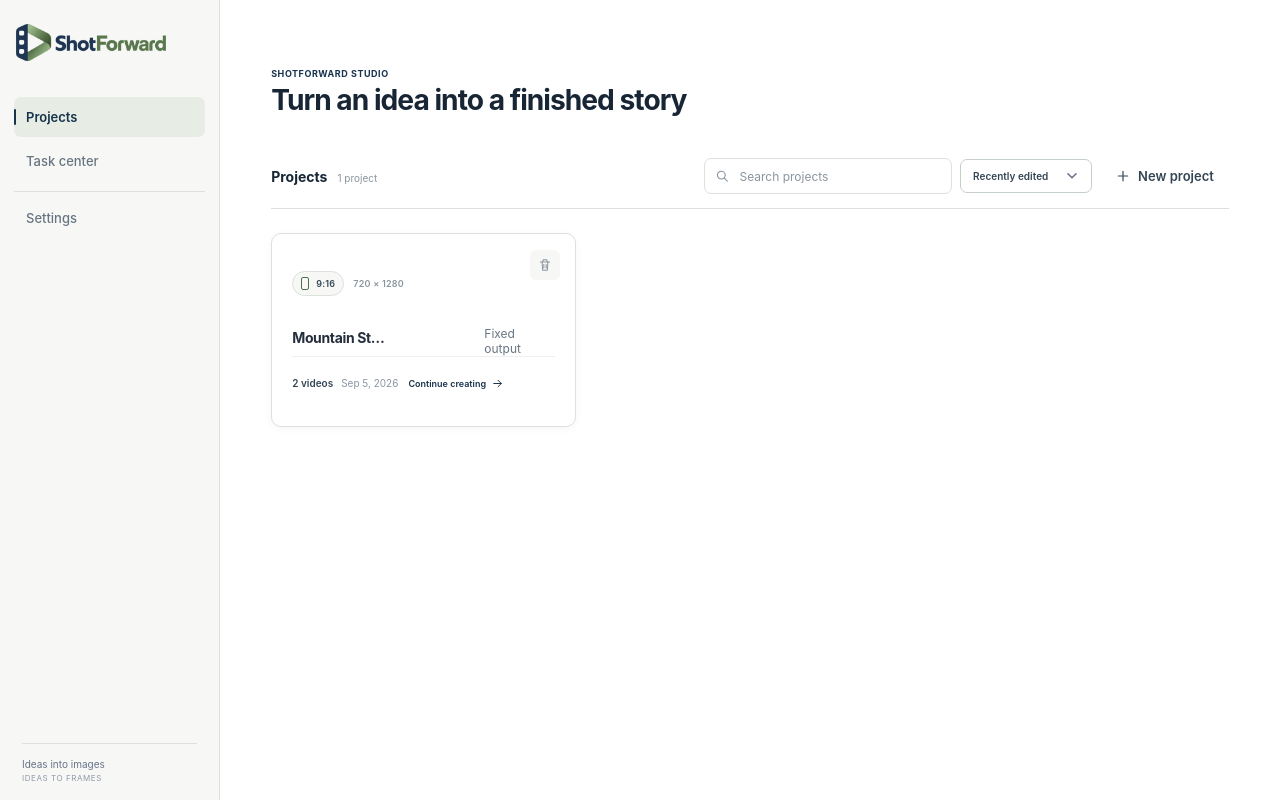
Test: App › loads authoritative projects after restoring a session
Expected: the heading "Mountain Story" is shown, [292,328,393,346]
Expected: the link "Projects" is shown, [14,97,205,137]
Step 1. Click the dropdown labelled "Recently edited" → {"x": 1026, "y": 176}, box [960,159,1092,193]
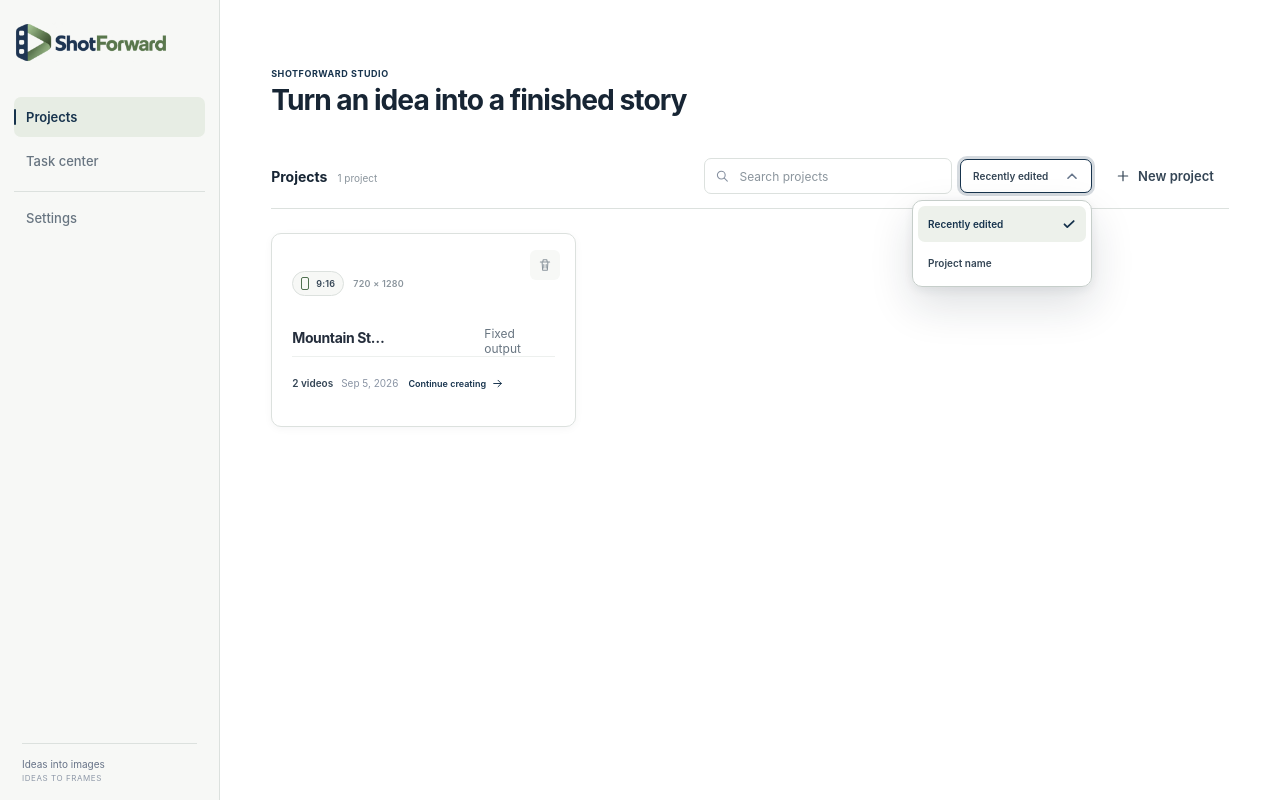
Now the option "Project name" is shown
Step 2. Click the option "Project name" → {"x": 1002, "y": 263}, box [918,245,1086,281]
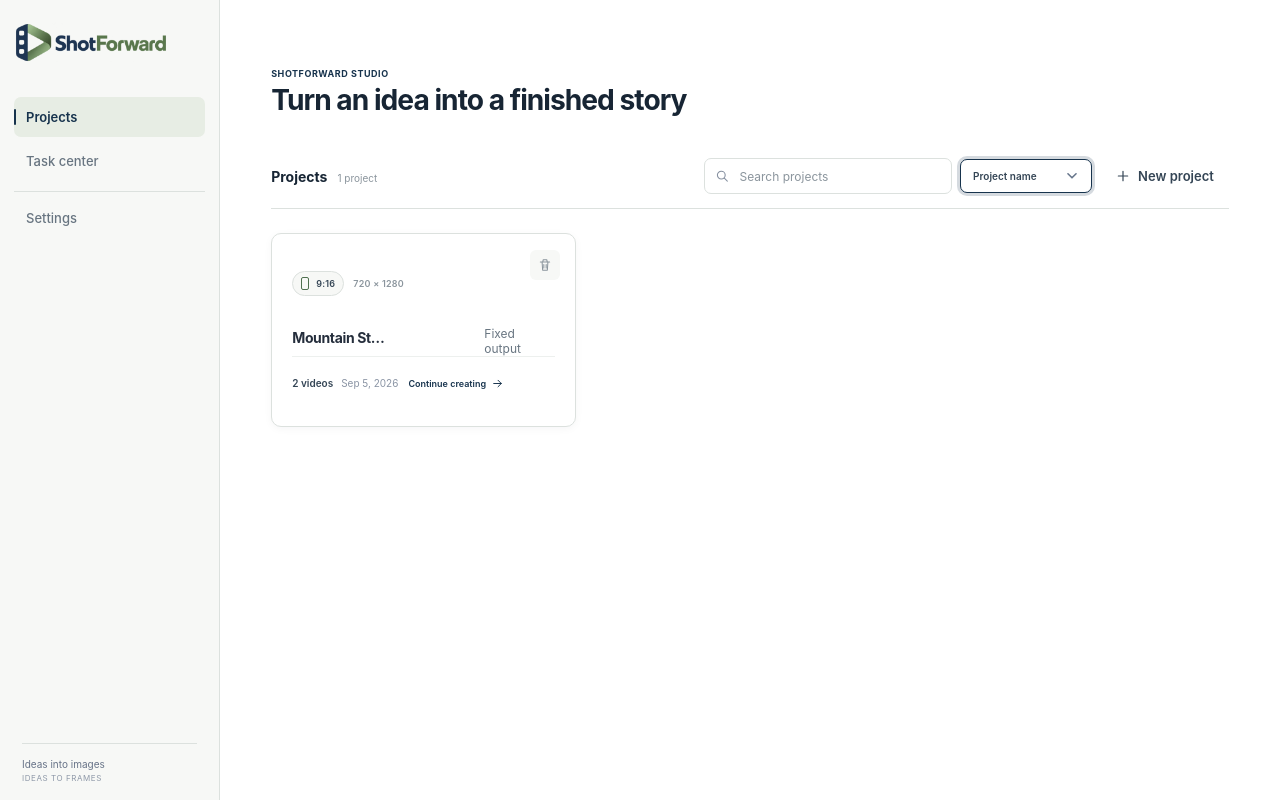
Now the dropdown labelled "Project name" is collapsed, box [960,159,1092,193]
